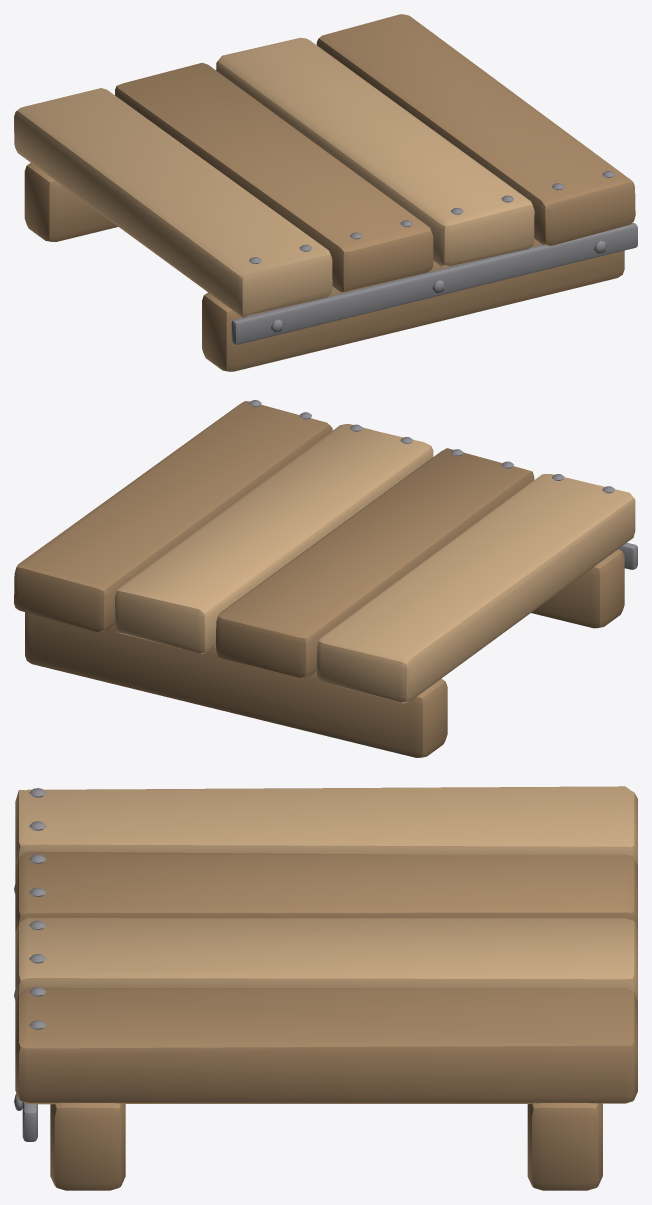
Rendered from tile_floor.glb.
3 views of the same model, one above another, from view 1: azimuth 30°, elevation 25°; view 2: azimuth 150°, elevation 25°; view 3: azimuth 270°, elevation 25° (orthographic). The views are drawn at different scales.
Parts seen in each view (by area): view 1: tile_floor; view 2: tile_floor; view 3: tile_floor.
Boxes of the visible parts, <box> form: tile_floor: <box>14,14,637,371</box>; tile_floor: <box>14,400,637,757</box>; tile_floor: <box>14,786,637,1190</box>.
Size of the model in its own units: 0.5 by 0.1388 by 0.497.
